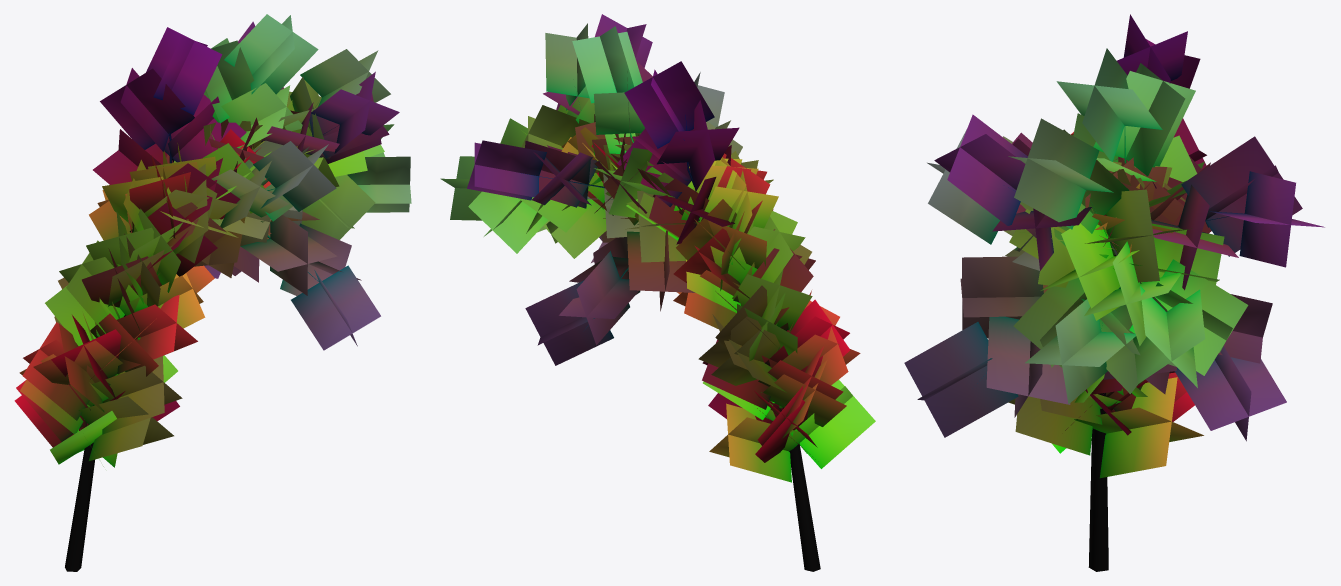
The model's file is URP_P3_Tree_15_LOD_3.fbx.
The picture shows the model from 3 angles, left to right: view 1: azimuth 30°, elevation 25°; view 2: azimuth 150°, elevation 25°; view 3: azimuth 270°, elevation 25°; orthographic projection. The views are drawn at different scales.
Visible parts, largest first — view 1: Tree_15_LOD_3; view 2: Tree_15_LOD_3; view 3: Tree_15_LOD_3.
Part boxes in pixels (x1,y1,x2,y2): Tree_15_LOD_3: [14, 14, 411, 571]; Tree_15_LOD_3: [440, 14, 875, 571]; Tree_15_LOD_3: [904, 14, 1324, 571].
Size of the model in its own units: 675 by 847 by 505.
